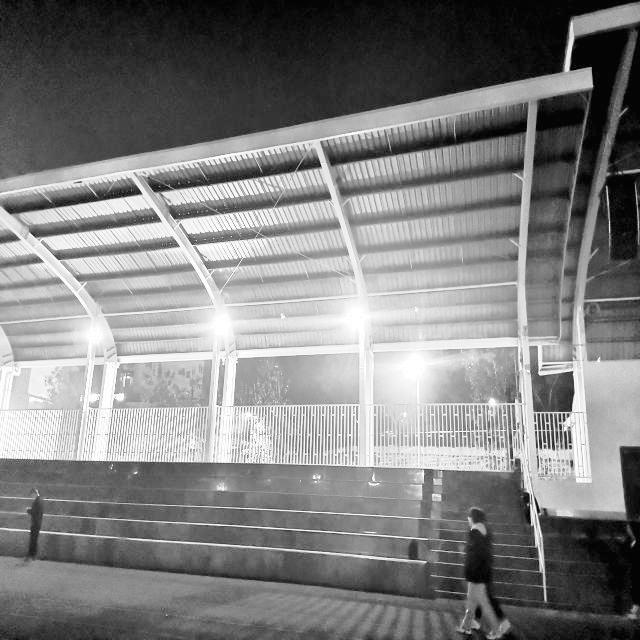Light: (395, 338, 437, 392), (341, 305, 371, 338), (210, 313, 233, 338), (86, 326, 105, 349), (485, 395, 501, 411)
